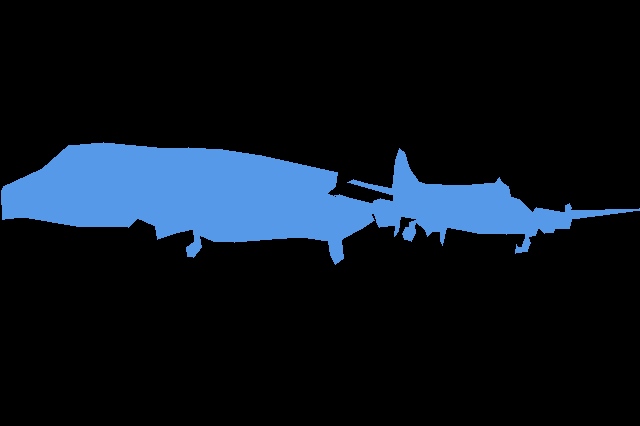Airplane: (1, 142, 374, 265), (334, 148, 640, 254)
